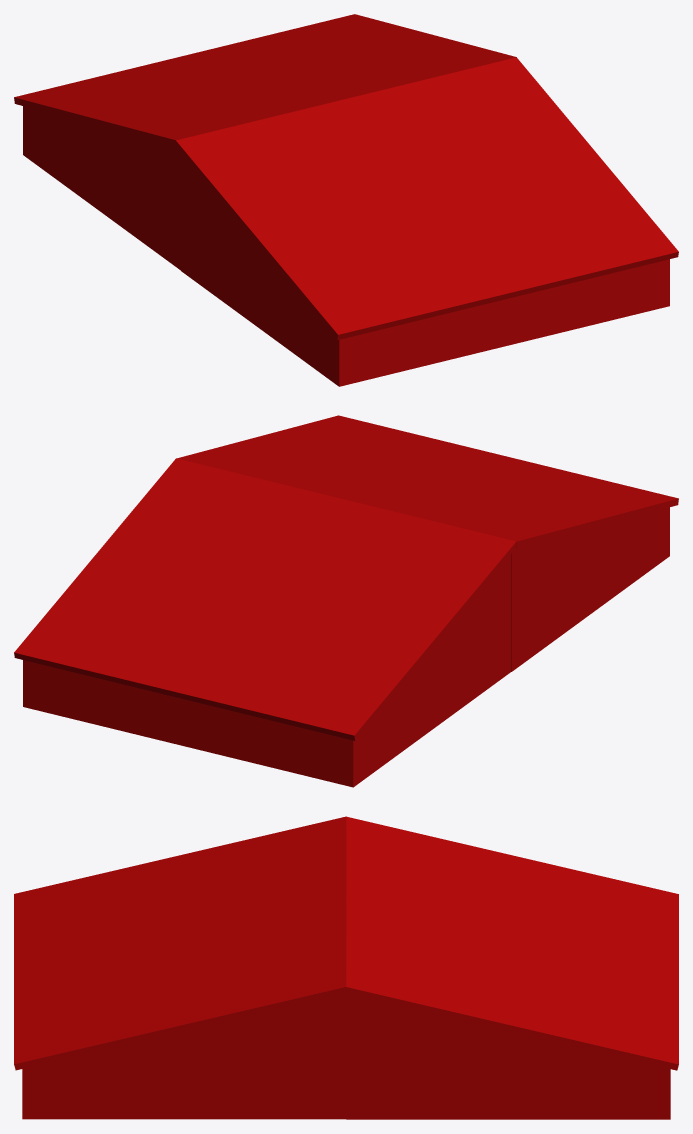
The model's file is double-slanted-roof.fbx.
3 views of the same model, one above another, from view 1: azimuth 30°, elevation 25°; view 2: azimuth 150°, elevation 25°; view 3: azimuth 270°, elevation 25° (orthographic). The views are drawn at different scales.
Visible parts, largest first — view 1: double_slanted_roof_piece1, double_slanted_roof_piece; view 2: double_slanted_roof_piece, double_slanted_roof_piece1; view 3: double_slanted_roof_piece1, double_slanted_roof_piece.
Boxes of the visible parts, x1,y1,x2,y2 form: double_slanted_roof_piece1: (176,57,678,386); double_slanted_roof_piece: (14,14,516,270); double_slanted_roof_piece: (14,458,516,787); double_slanted_roof_piece1: (177,415,678,671); double_slanted_roof_piece1: (14,816,346,1119); double_slanted_roof_piece: (346,817,678,1119).
Bounding box in the file's own units: 6.19 × 2.29 × 10.2.
